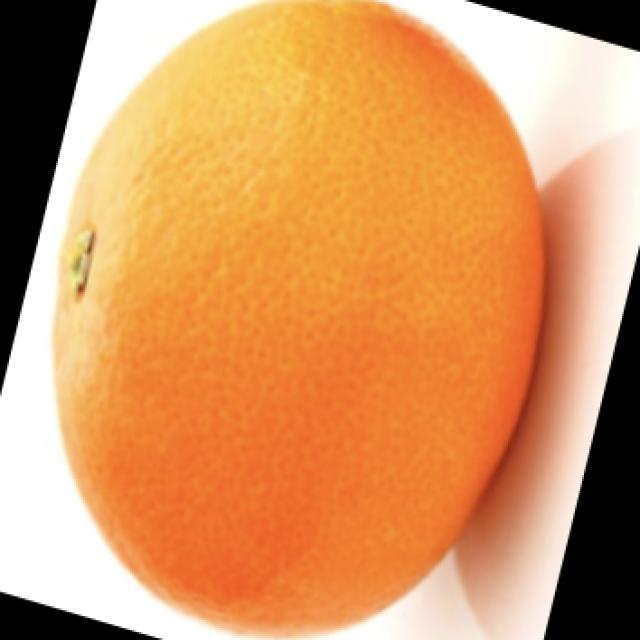Orange: (50, 0, 548, 638)
